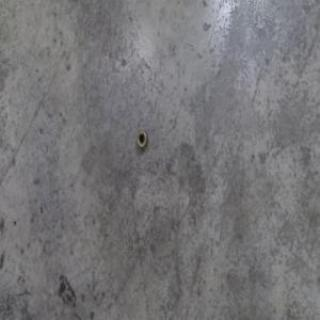Nuttrack_idkeyframe: (135, 128, 147, 150)
